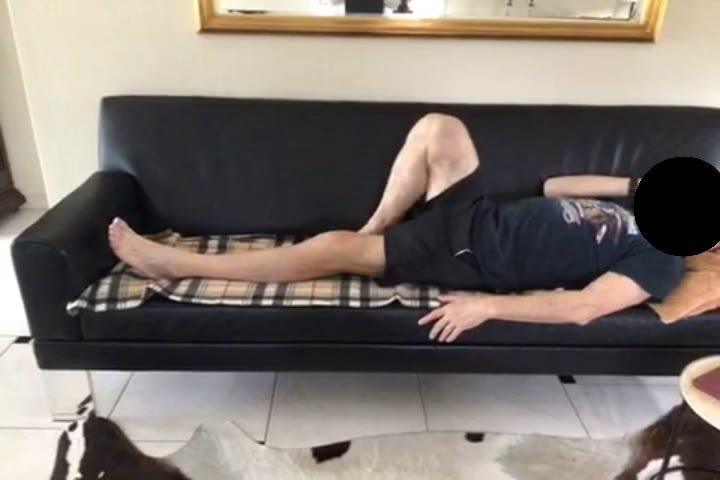lower_body: (108, 112, 493, 292)
